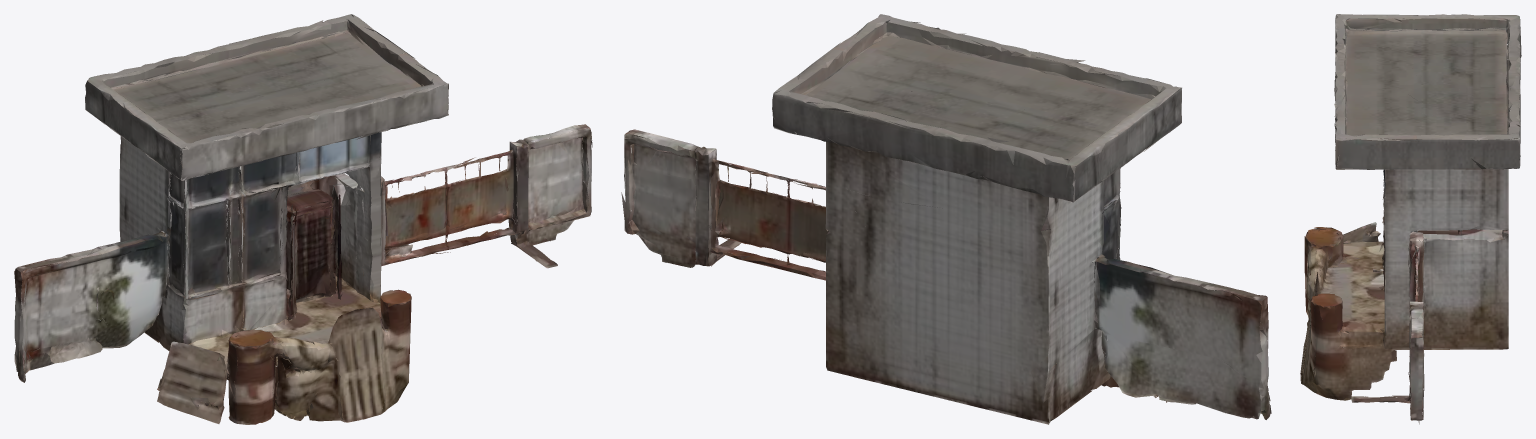
Rendered from building_checkpoint.glb.
3 renders of one model, left to right at view 1: azimuth 30°, elevation 25°; view 2: azimuth 150°, elevation 25°; view 3: azimuth 270°, elevation 25°, orthographic. The views are drawn at different scales.
Parts seen in each view (by area): view 1: building_checkpoint; view 2: building_checkpoint; view 3: building_checkpoint.
Boxes of the visible parts, left/top/right/bottom form: building_checkpoint: left=14, top=14, right=592, bottom=424; building_checkpoint: left=621, top=14, right=1271, bottom=424; building_checkpoint: left=1300, top=14, right=1521, bottom=424.
Size of the model in its own units: 12 by 6.03 by 4.2.
1 material, 1 textured.
